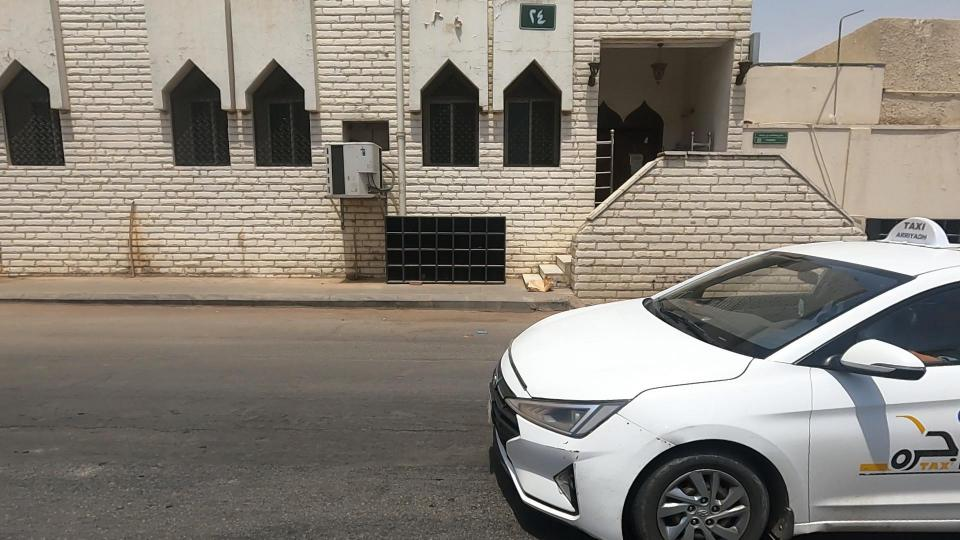GARBAGE: (492, 253, 583, 316)
